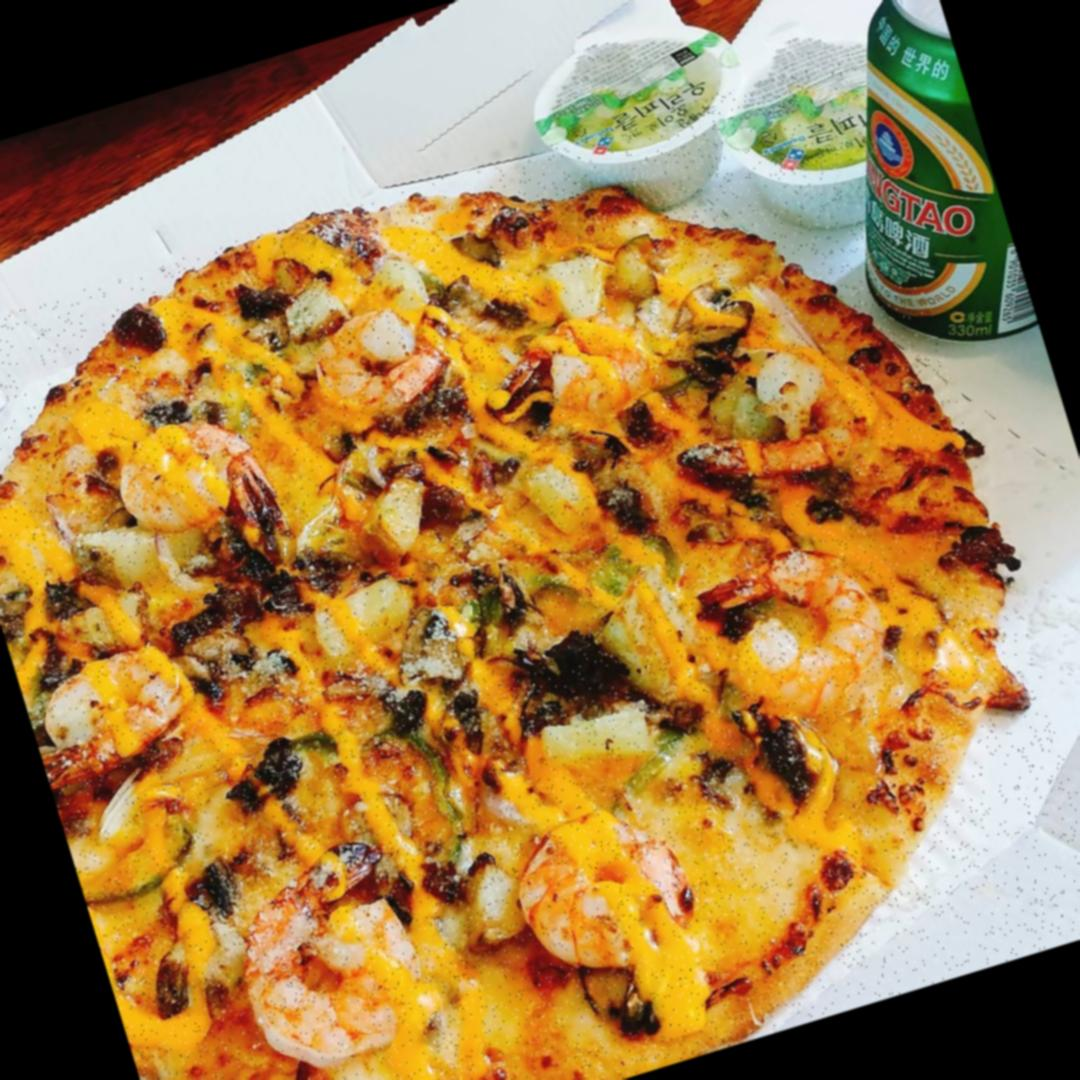Pizza: (0, 52, 1080, 1080)
